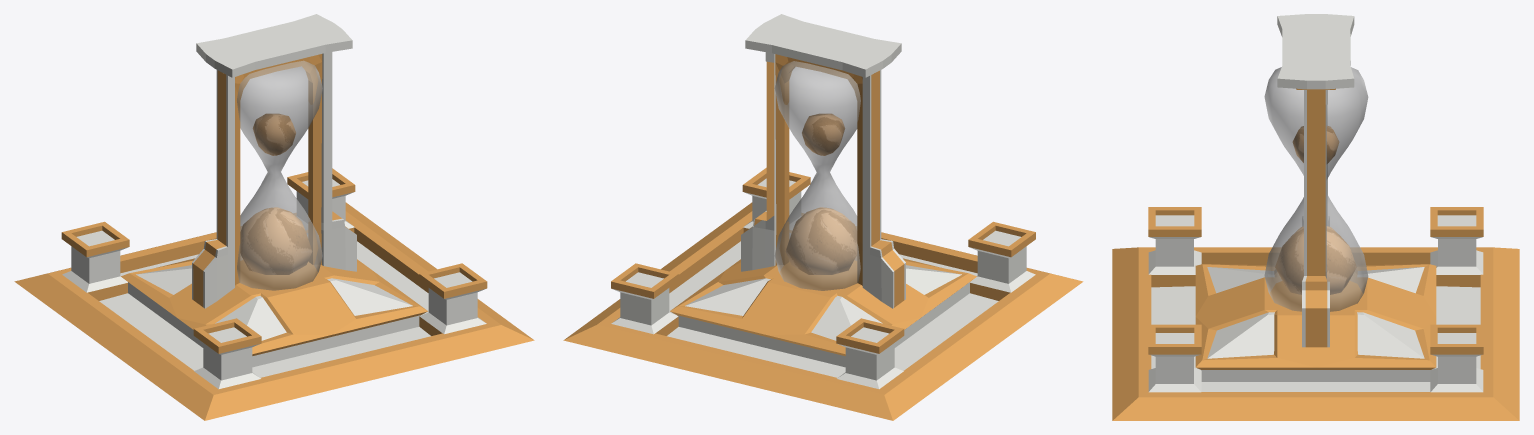
File: CentralTower-Up.fbx
3 renders of one model, left to right at view 1: azimuth 30°, elevation 25°; view 2: azimuth 150°, elevation 25°; view 3: azimuth 270°, elevation 25°, orthographic. The views are drawn at different scales.
Parts seen in each view (by area): view 1: MainTower.001; view 2: MainTower.001; view 3: MainTower.001.
Boxes of the visible parts, bbox=[...] form: MainTower.001: bbox=[14, 14, 534, 420]; MainTower.001: bbox=[563, 14, 1083, 420]; MainTower.001: bbox=[1112, 14, 1519, 420].
Size of the model in its own units: 1161 by 909 by 1161.
